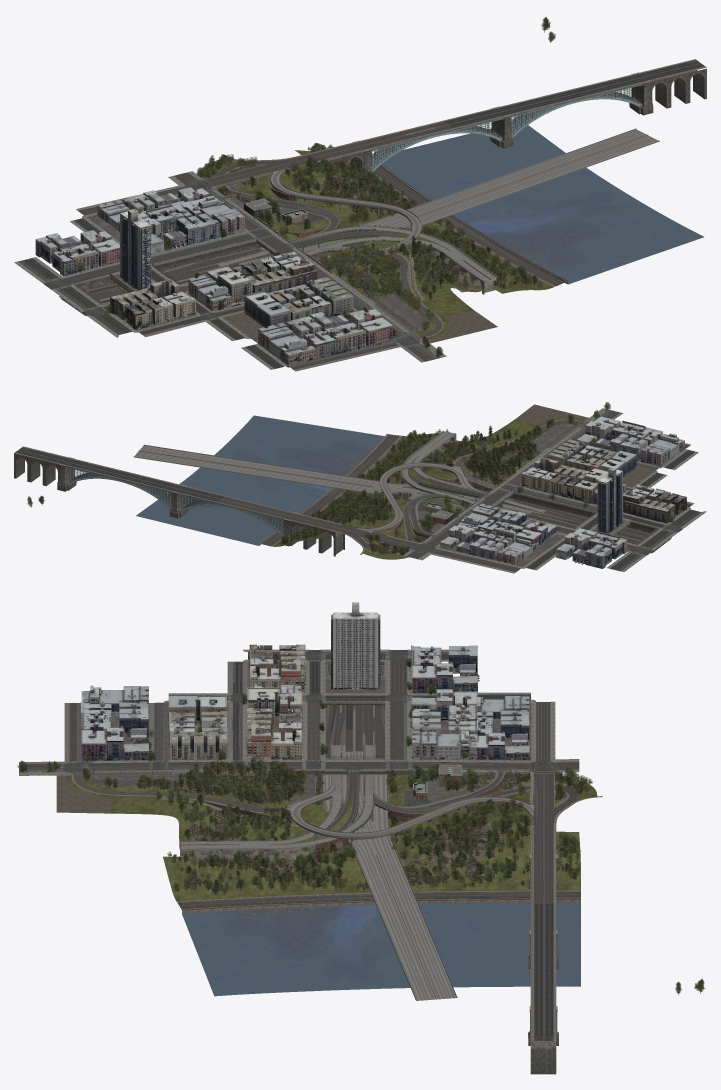
The picture shows the model from 3 angles, top to bottom: view 1: azimuth 30°, elevation 25°; view 2: azimuth 150°, elevation 25°; view 3: azimuth 270°, elevation 25°; orthographic projection. The views are drawn at different scales.
Parts seen in each view (by area): view 1: gds.142_0, gds.036_36, gds.001_1, gds.023_23, gds.015_15, gds.019_19, gds.044_44, gds.029_29, gds.024_24, gds.010_10, gds.038_38, gds.022_22 (+17 smaller); view 2: gds.142_0, gds.036_36, gds.001_1, gds.015_15, gds.023_23, gds.019_19, gds.044_44, gds.029_29, gds.024_24, gds.035_35, gds.010_10, gds.022_22 (+20 smaller); view 3: gds.142_0, gds.001_1, gds.019_19, gds.036_36, gds.023_23, gds.015_15, gds.029_29, gds.044_44, gds.010_10, gds.022_22, gds.024_24, gds.011_11 (+13 smaller).
Part boxes in pixels (x1=…): gds.142_0: x1=382, y1=125, x2=703, y2=284; gds.036_36: x1=35, y1=187, x2=392, y2=367; gds.001_1: x1=76, y1=17, x2=555, y2=356; gds.023_23: x1=18, y1=121, x2=565, y2=369; gds.015_15: x1=211, y1=129, x2=658, y2=281; gds.019_19: x1=197, y1=150, x2=553, y2=358; gds.044_44: x1=110, y1=251, x2=318, y2=329; gds.029_29: x1=14, y1=66, x2=704, y2=369; gds.024_24: x1=21, y1=60, x2=704, y2=368; gds.010_10: x1=74, y1=59, x2=706, y2=371; gds.038_38: x1=244, y1=277, x2=353, y2=327; gds.022_22: x1=142, y1=63, x2=700, y2=360; gds.142_0: x1=136, y1=415, x2=384, y2=545; gds.036_36: x1=440, y1=416, x2=684, y2=568; gds.001_1: x1=27, y1=402, x2=677, y2=555; gds.015_15: x1=134, y1=431, x2=545, y2=532; gds.023_23: x1=218, y1=411, x2=701, y2=571; gds.019_19: x1=273, y1=409, x2=608, y2=559; gds.044_44: x1=521, y1=457, x2=686, y2=523; gds.029_29: x1=23, y1=408, x2=706, y2=573; gds.024_24: x1=15, y1=447, x2=698, y2=570; gds.035_35: x1=14, y1=426, x2=579, y2=556; gds.010_10: x1=14, y1=412, x2=694, y2=554; gds.022_22: x1=18, y1=409, x2=692, y2=546; gds.142_0: x1=182, y1=903, x2=580, y2=996; gds.001_1: x1=17, y1=653, x2=704, y2=995; gds.019_19: x1=19, y1=771, x2=597, y2=901; gds.036_36: x1=80, y1=645, x2=529, y2=761; gds.023_23: x1=19, y1=652, x2=580, y2=908; gds.015_15: x1=180, y1=745, x2=533, y2=1000; gds.029_29: x1=19, y1=649, x2=579, y2=1040; gds.044_44: x1=246, y1=644, x2=305, y2=759; gds.010_10: x1=19, y1=661, x2=602, y2=1040; gds.022_22: x1=19, y1=661, x2=580, y2=1040; gds.024_24: x1=169, y1=653, x2=553, y2=1040; gds.011_11: x1=77, y1=661, x2=556, y2=841.
Bounding box in the file's own units: 3701 × 521 × 2772.
47 materials, 46 textured.
